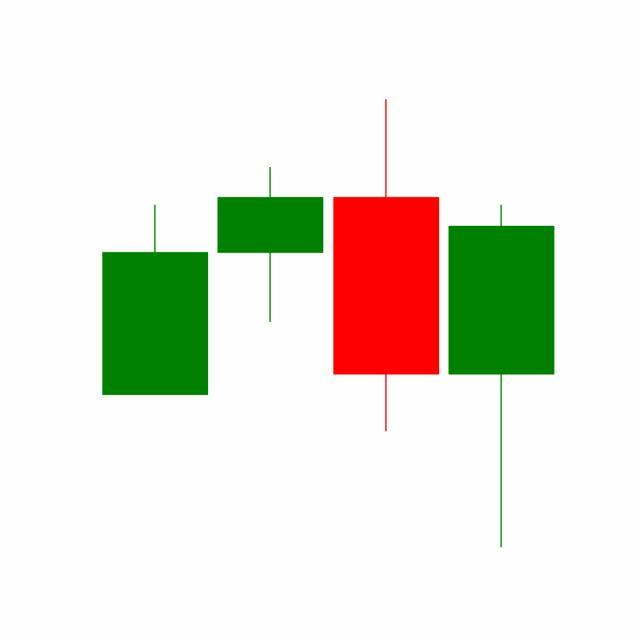Hammer: (444, 201, 560, 552)
